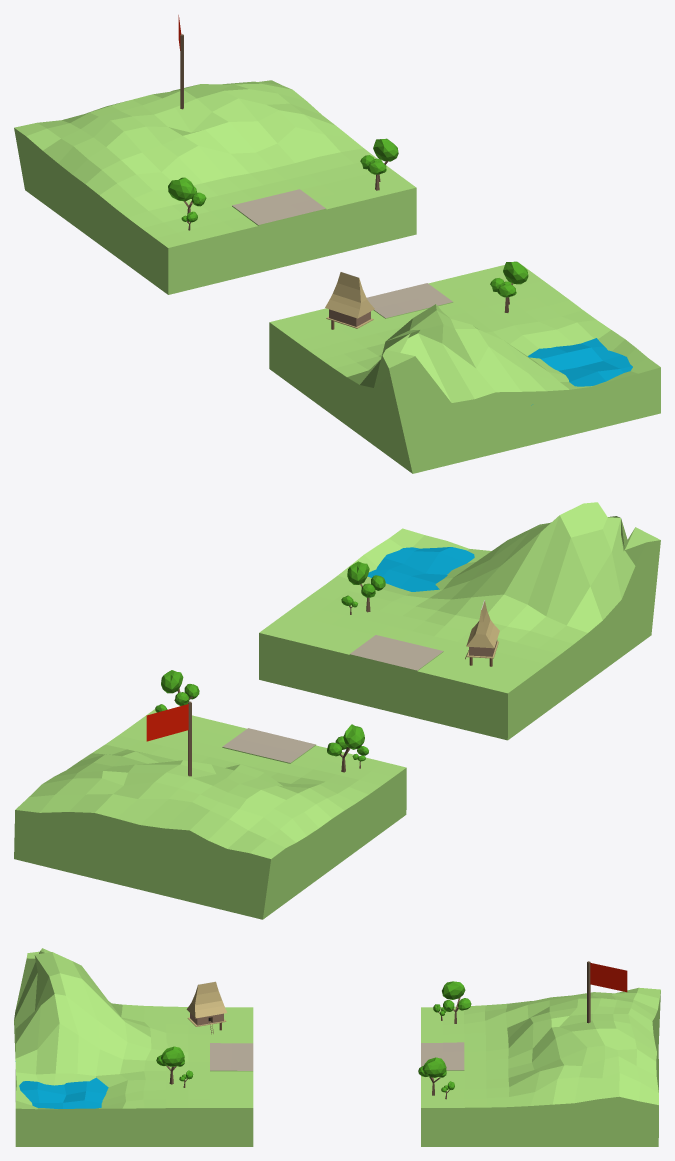
The model's file is mapppp.gltf.
3 views of the same model, one above another, from view 1: azimuth 30°, elevation 25°; view 2: azimuth 150°, elevation 25°; view 3: azimuth 270°, elevation 25° (orthographic). The views are drawn at different scales.
Visible parts, largest first — view 1: Cube.001, Cube, Plane, Cube.002; view 2: Cube, Cube.001, Plane, Cube.002, Plane.001; view 3: Cube.001, Cube, Plane, Cube.002, Plane.001, Icosphere.001, Icosphere.013, Icosphere.007.
Boxes of the visible parts, x1,y1,x2,y2 form: Cube.001: (14, 80, 416, 294); Cube: (269, 262, 660, 473); Plane: (528, 338, 632, 405); Cube.002: (325, 272, 374, 328); Cube: (259, 502, 660, 740); Cube.001: (14, 709, 406, 919); Plane: (367, 547, 474, 591); Cube.002: (465, 600, 499, 659); Plane.001: (146, 704, 188, 741); Cube.001: (421, 987, 660, 1146); Cube: (14, 948, 253, 1146); Plane: (15, 1061, 108, 1108); Cube.002: (186, 981, 227, 1034); Plane.001: (590, 963, 627, 992); Icosphere.001: (161, 1046, 184, 1066); Icosphere.013: (422, 1057, 446, 1077); Icosphere.007: (442, 981, 465, 999).
Size of the model in its own units: 1633 by 925 by 4141.
